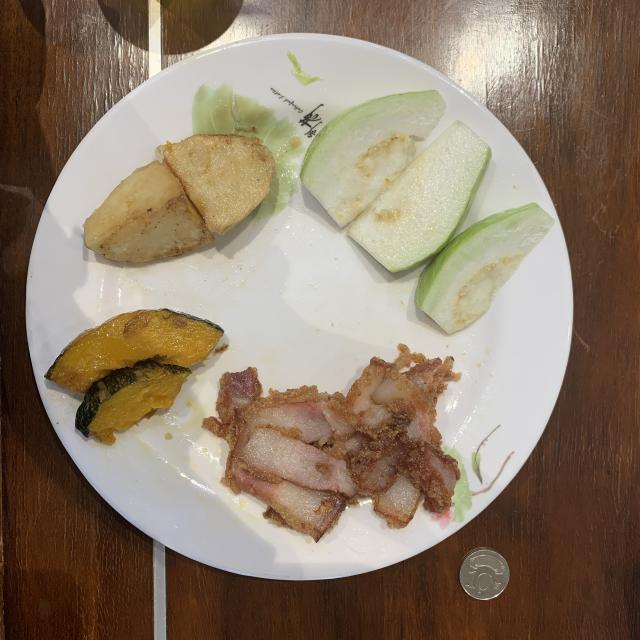coin: (459, 548, 510, 600)
fried potato: (84, 134, 275, 262)
guava -sliced-: (300, 90, 552, 332)
pumpkin: (45, 309, 224, 444)
red grilled pork: (204, 345, 460, 541)
